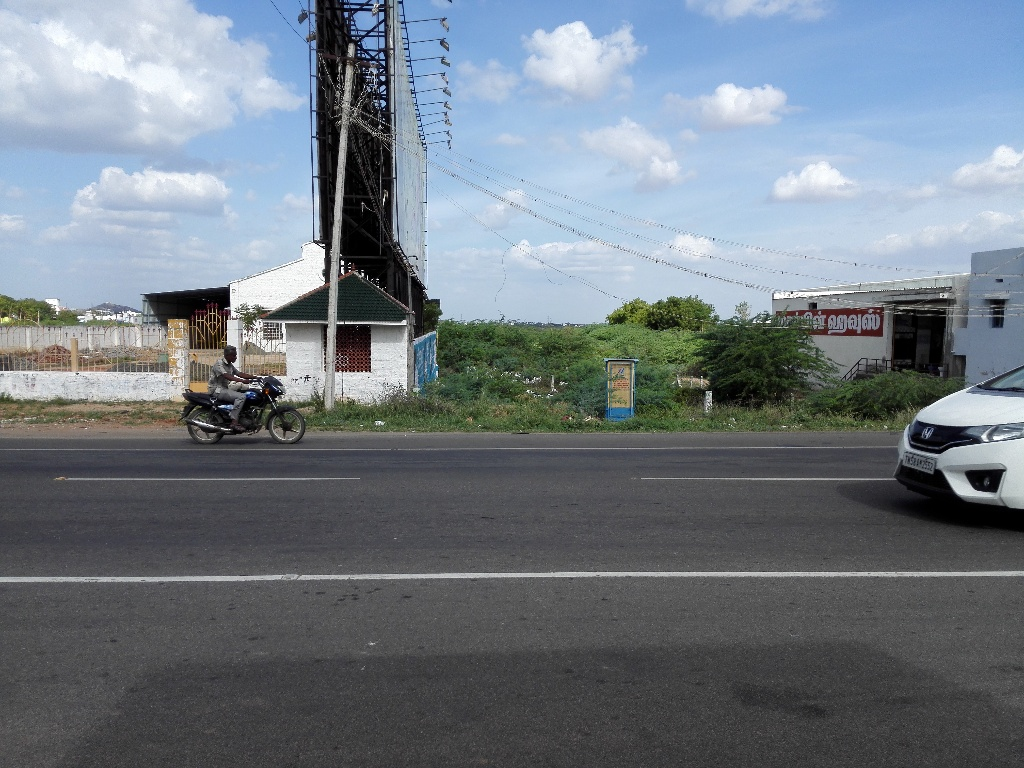biker: (158, 318, 321, 458)
nohelmet: (217, 341, 243, 372)
